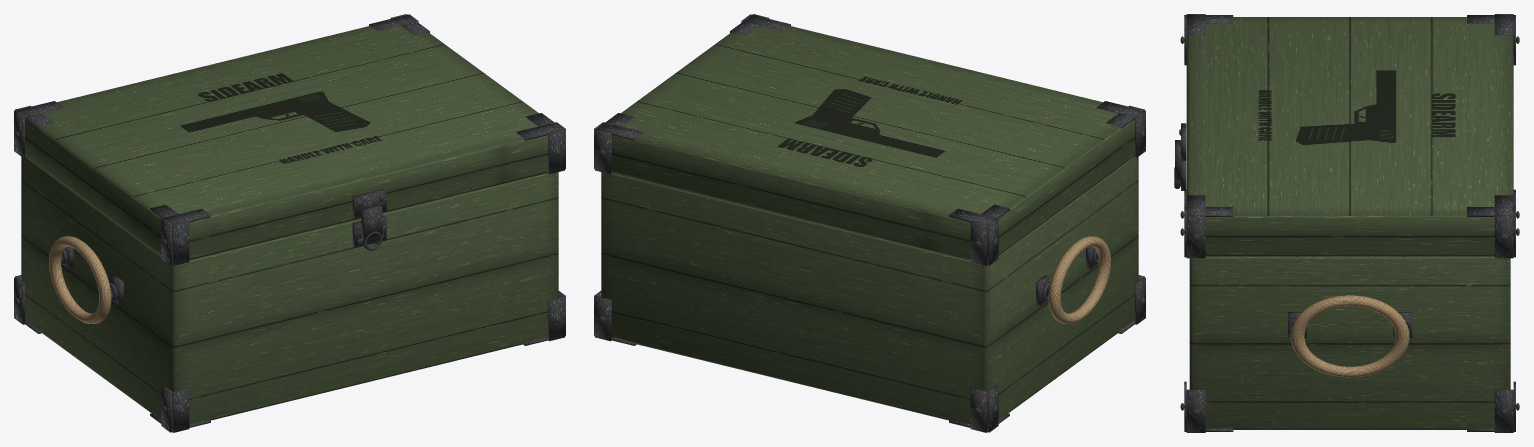
The model's file is pistol_crate.glb.
3 views of the same model, side by side, from view 1: azimuth 30°, elevation 25°; view 2: azimuth 150°, elevation 25°; view 3: azimuth 270°, elevation 25° (orthographic). The views are drawn at different scales.
Parts seen in each view (by area): view 1: Pistol_Crate; view 2: Pistol_Crate; view 3: Pistol_Crate.
Boxes of the visible parts, x1,y1,x2,y2 form: Pistol_Crate: [14, 14, 565, 432]; Pistol_Crate: [594, 14, 1145, 432]; Pistol_Crate: [1174, 14, 1519, 432].
Size of the model in its own units: 1.78 by 0.822 by 1.18.
4 materials, 4 textured.
